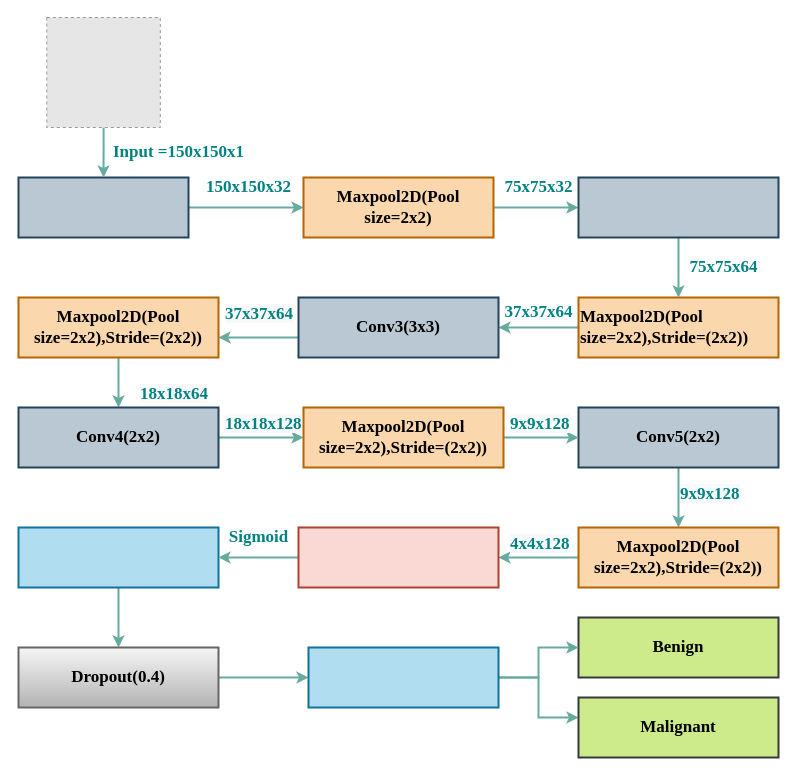
This 796x776 diagram has some shape labels left out. Grey dashed boxes stand in for pictures. Here are the shapes that lost their labels. From the top down, the box of each, then its label:
(17, 176, 189, 238): Conv1(5x5)
(577, 176, 779, 238): Conv2(3x3)
(17, 526, 219, 588): Dense(256)
(297, 526, 499, 588): Flatten
(307, 646, 499, 708): Dense(2)
